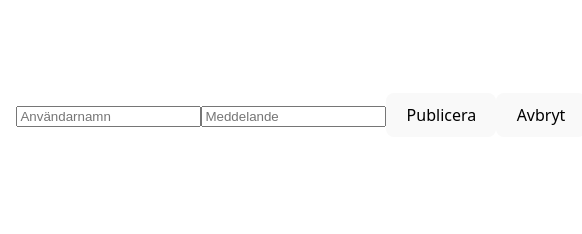
it: MessageForm › US1: Post message › should show errors for empty fields
The width and height of the screenshot is (582, 234).
Step 1. Click the button "Publicera" → (441, 115), box [386,93,496,137]
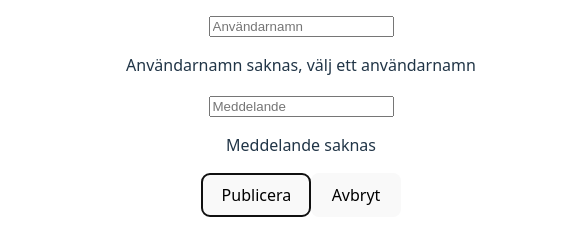
Result: the text "Användarnamn saknas, välj ett användarnamn" is shown at [126,53,476,77]
Result: the text "Meddelande saknas" is shown at [226,134,376,156]
